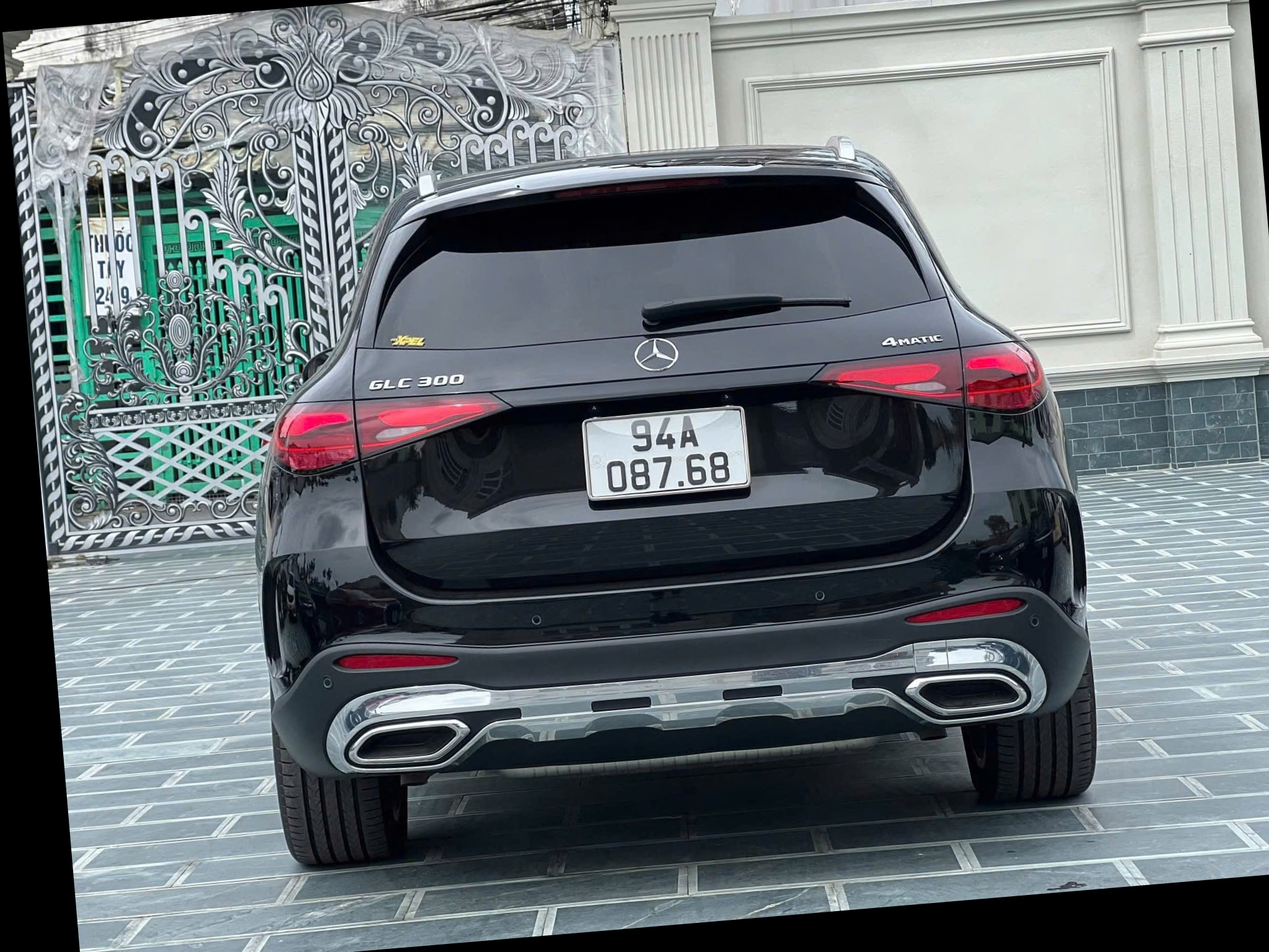Bien-so: (533, 445, 708, 554)
